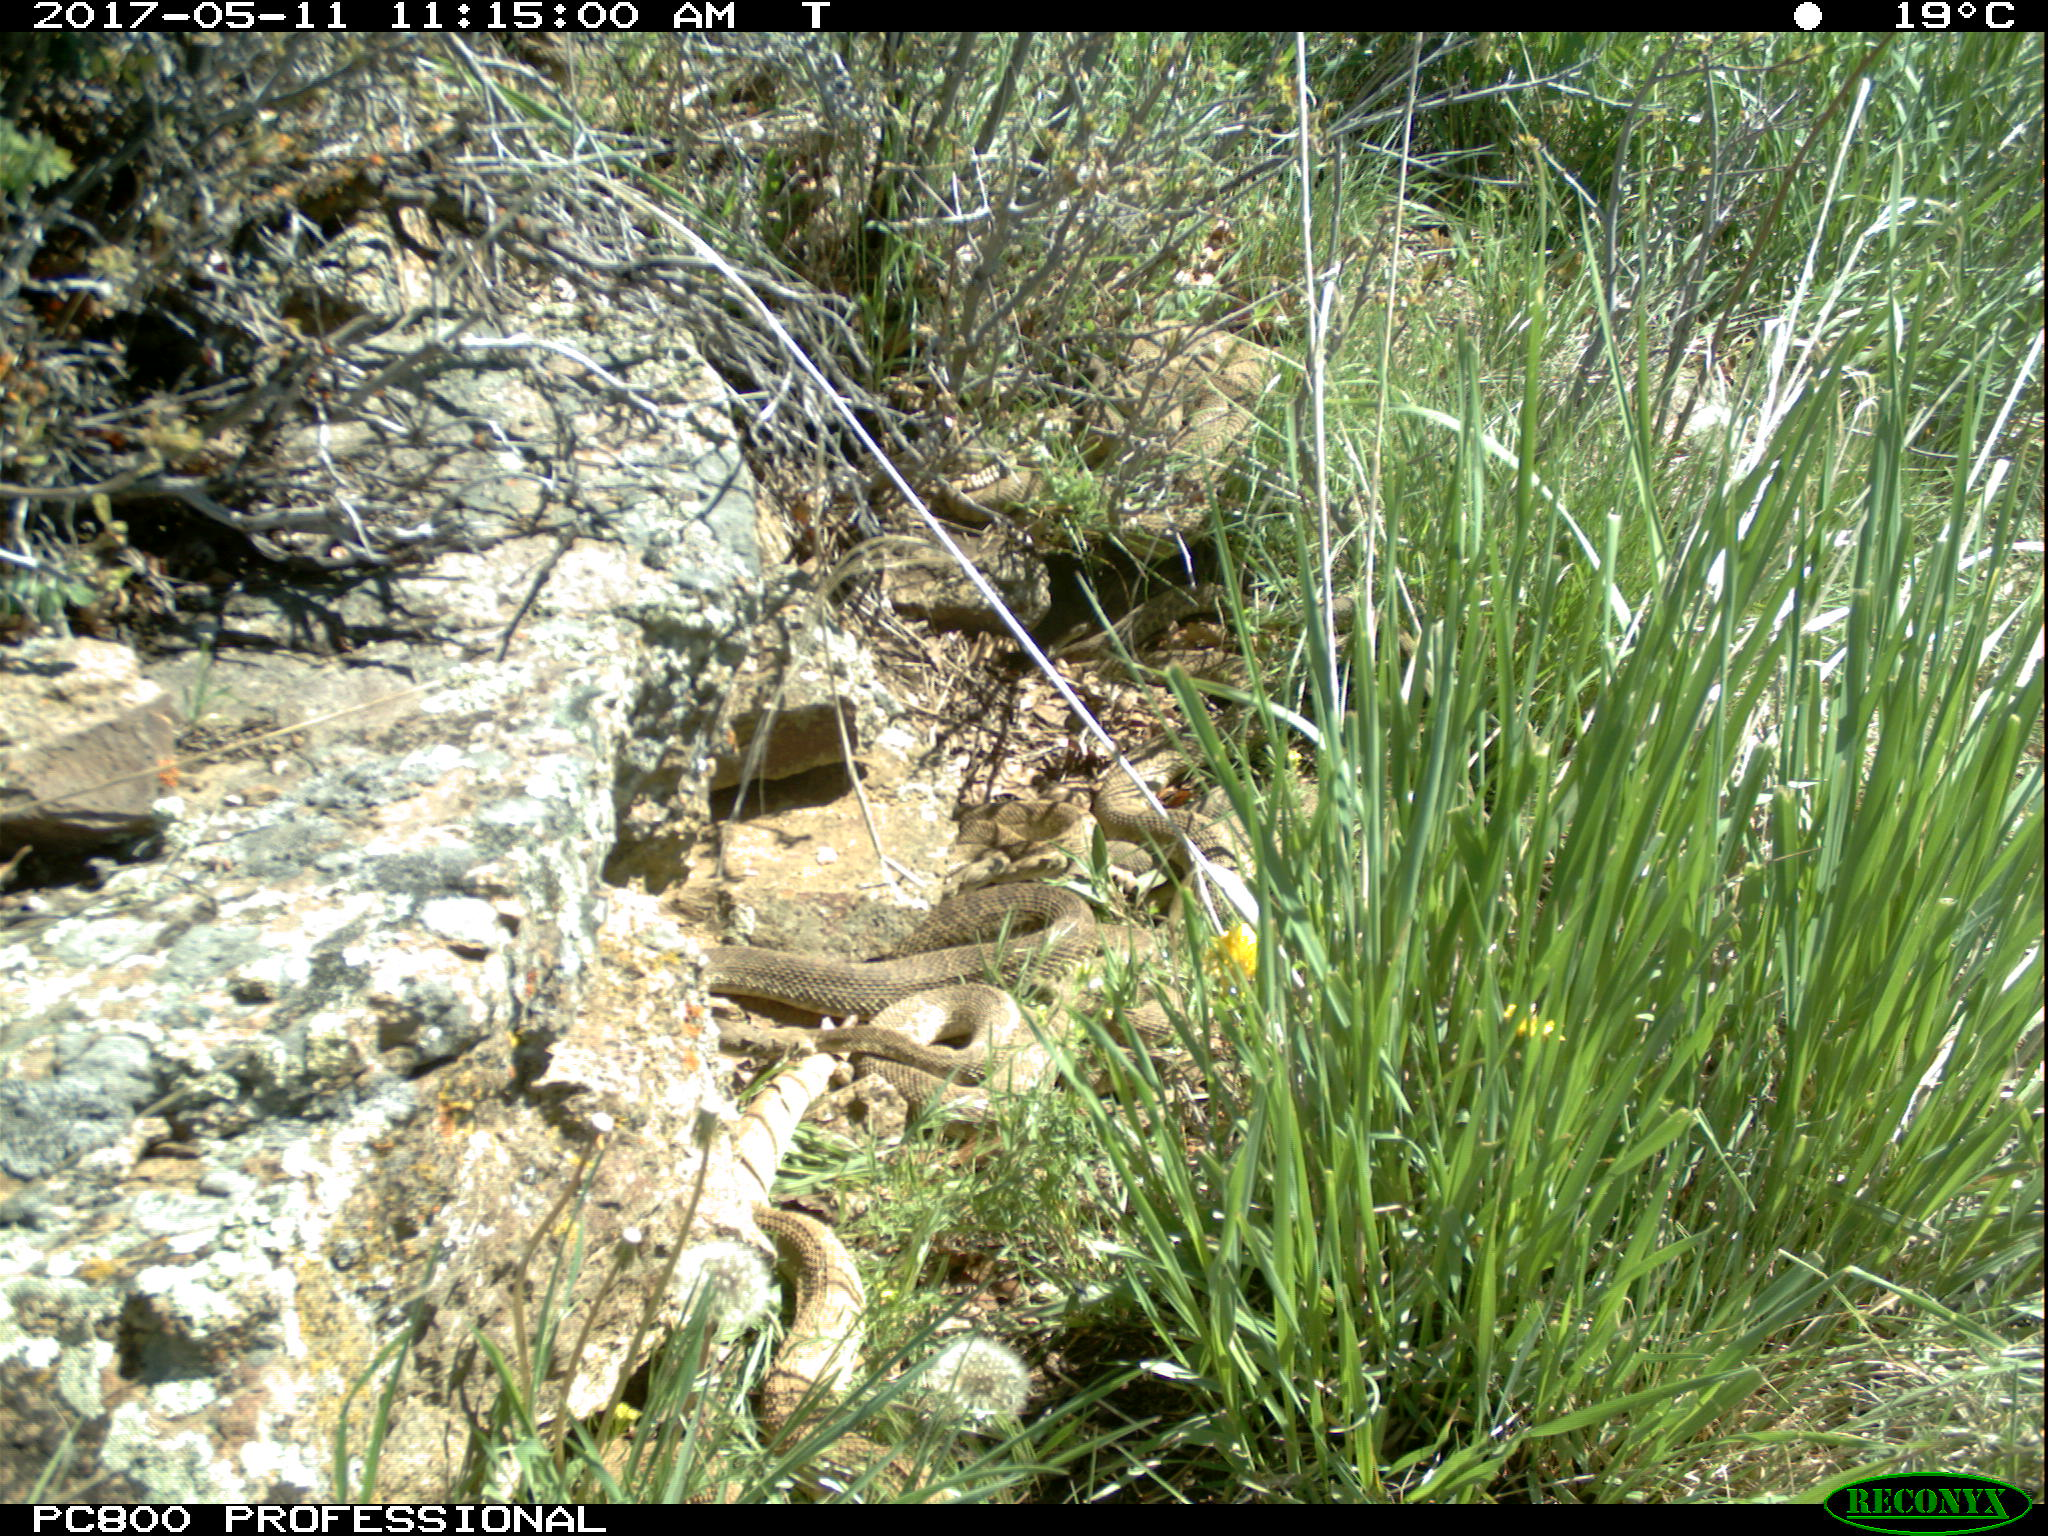snake: (695, 881, 1092, 1013), (748, 1204, 922, 1502), (821, 983, 1042, 1118), (1093, 720, 1256, 886), (1124, 316, 1279, 476), (943, 458, 1045, 523)
